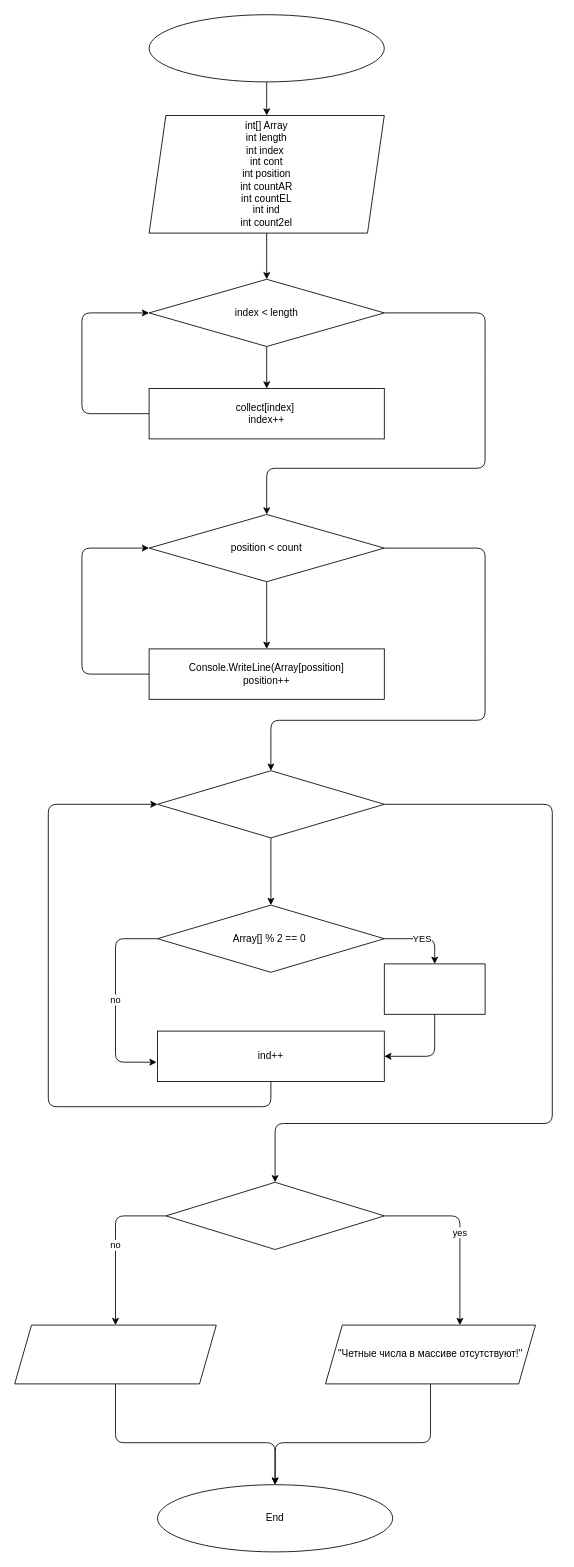
Some shapes in this 574 by 1567 pixel diagram are drawn without their labels. The box of each missing label's shape, as (x1, y1, x2, y2) in pixels:
"Количество четных элементов массива составляет: " count2el: (14, 1324, 216, 1384)
count2el == 0: (165, 1181, 384, 1250)
countEL++: (383, 963, 485, 1014)
ind < countAR: (157, 770, 384, 838)
Start: (148, 14, 384, 82)
